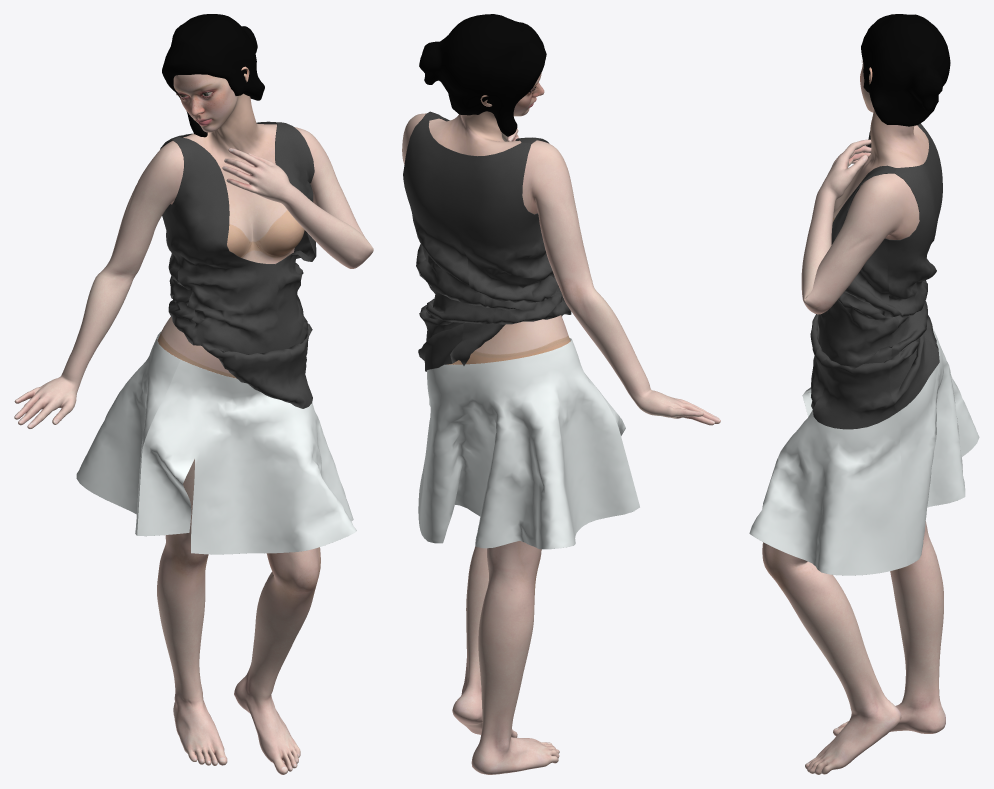
The model's file is Dynamic_2.obj.
3 views of the same model, side by side, from view 1: azimuth 30°, elevation 25°; view 2: azimuth 150°, elevation 25°; view 3: azimuth 270°, elevation 25° (orthographic). The views are drawn at different scales.
Size of the model in its own units: 813 by 1767 by 499.
